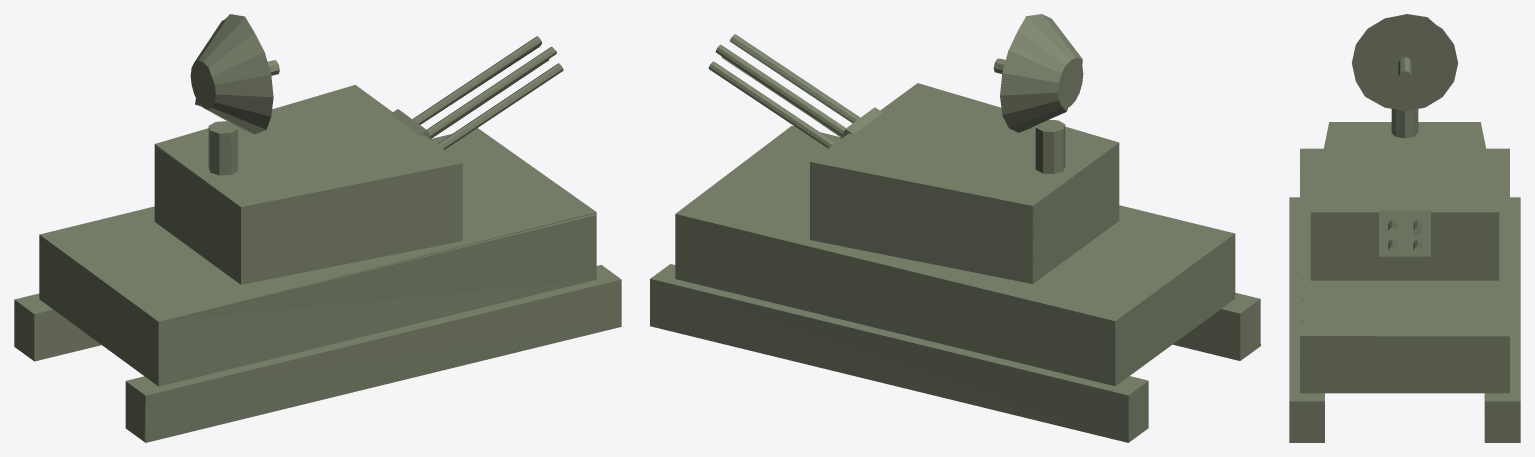
File: zsu23_4.glb
The picture shows the model from 3 angles, left to right: view 1: azimuth 30°, elevation 25°; view 2: azimuth 150°, elevation 25°; view 3: azimuth 270°, elevation 25°; orthographic projection. The views are drawn at different scales.
Visible parts, largest first — view 1: zsu23_4_b, zsu23_4; view 2: zsu23_4_b, zsu23_4; view 3: zsu23_4_b, zsu23_4.
Boxes of the visible parts, x1=… form: zsu23_4_b: x1=14, y1=14, x2=621, y2=441; zsu23_4: x1=145, y1=19, x2=618, y2=442; zsu23_4_b: x1=650, y1=14, x2=1260, y2=442; zsu23_4: x1=650, y1=14, x2=1146, y2=442; zsu23_4_b: x1=1289, y1=14, x2=1520, y2=442; zsu23_4: x1=1300, y1=17, x2=1520, y2=442.
Bounding box in the file's own units: 6.54 × 4.42 × 3.12.
